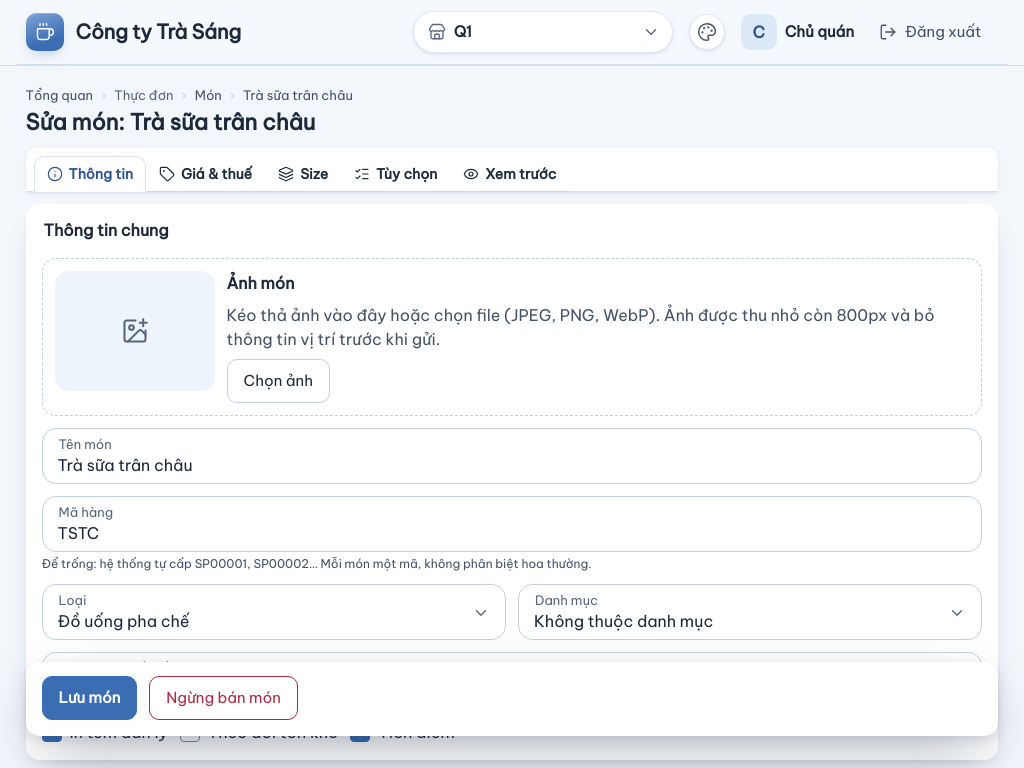
Test: the product editor › tells the person someone saved first, and reloads the newer product on request
The image size is (1024, 768).
Expected: the dropdown named "Chi nhánh đang xem" is shown, [413, 11, 673, 53]
Replace the text in the field labelled "Tên món" with "Trà sữa của tôi" at (512, 456), box [42, 428, 982, 484]
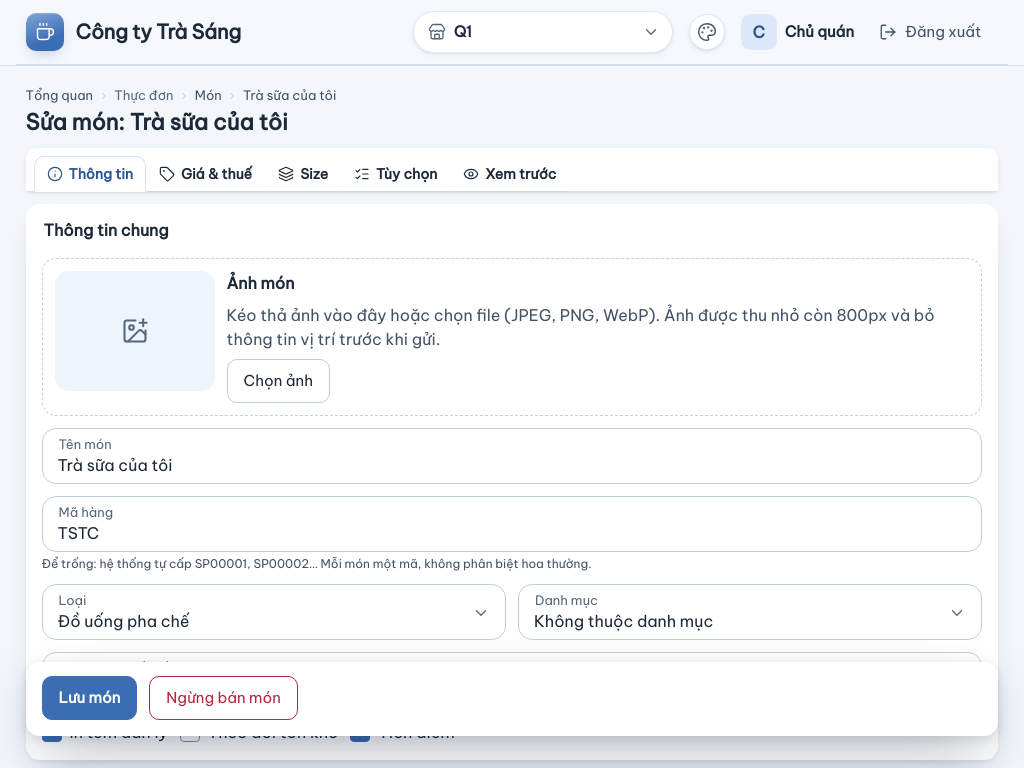
Click the button "Lưu món" at (89, 698), box [42, 676, 137, 720]
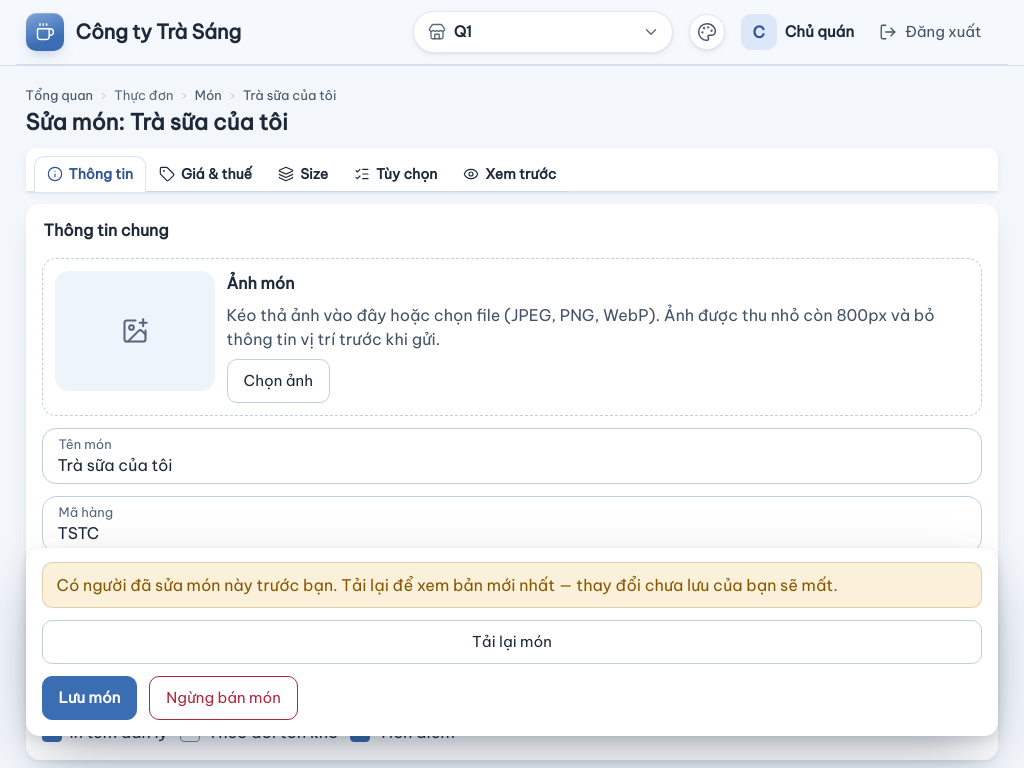
Expected: the text "Có người đã sửa món này trước bạn. Tải lại để xem bản mới nhất — thay đổi chưa lưu của bạn sẽ mất." is shown, [57, 575, 838, 595]
Click the button "Tải lại món" at (512, 642), box [42, 620, 982, 664]
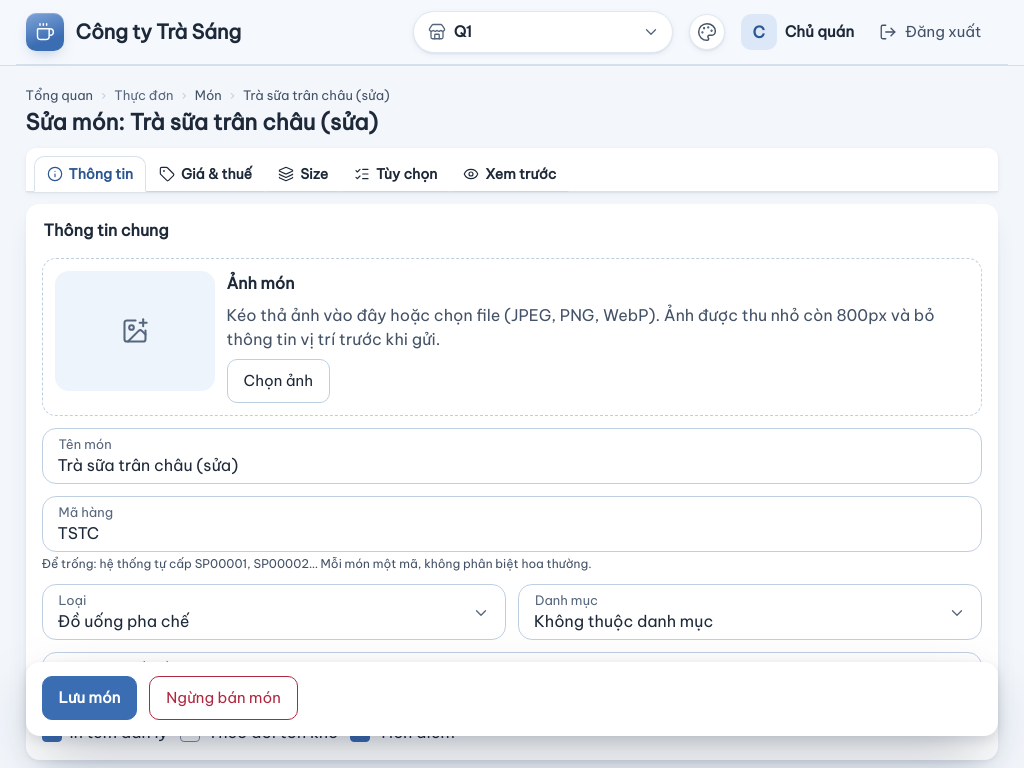
Expected: the field labelled "Tên món" holds "Trà sữa trân châu (sửa)", [42, 428, 982, 484]
Click the button "Lưu món" at (89, 698), box [42, 676, 137, 720]
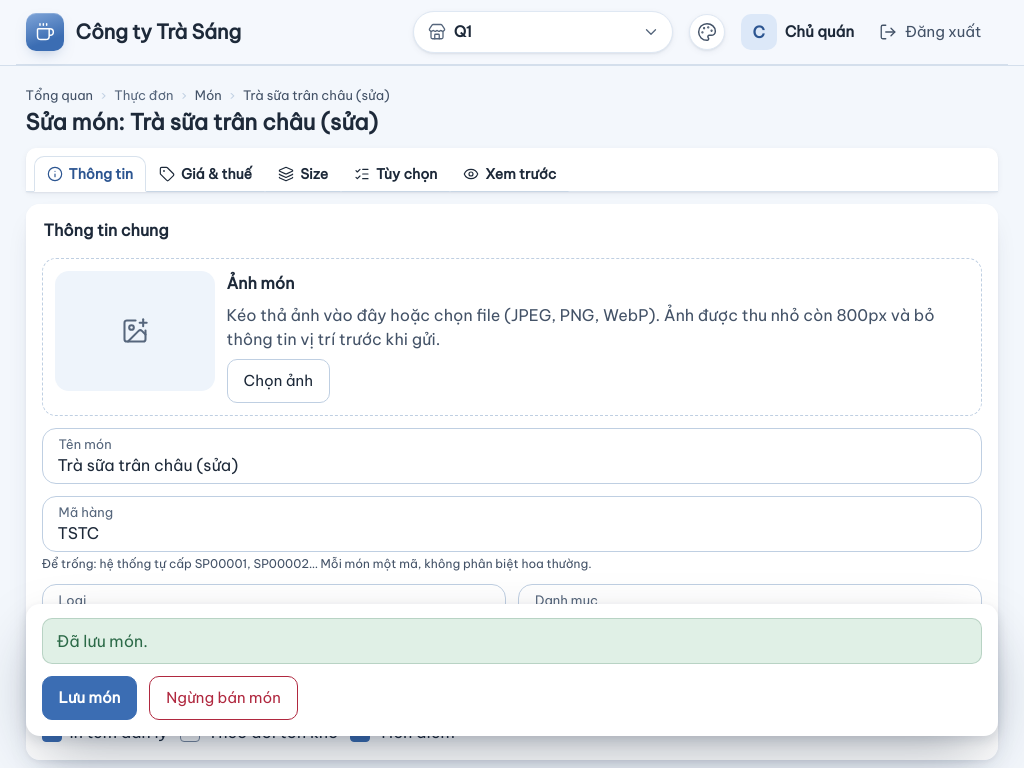
Expected: the text "Đã lưu món." is shown, [42, 618, 982, 664]
